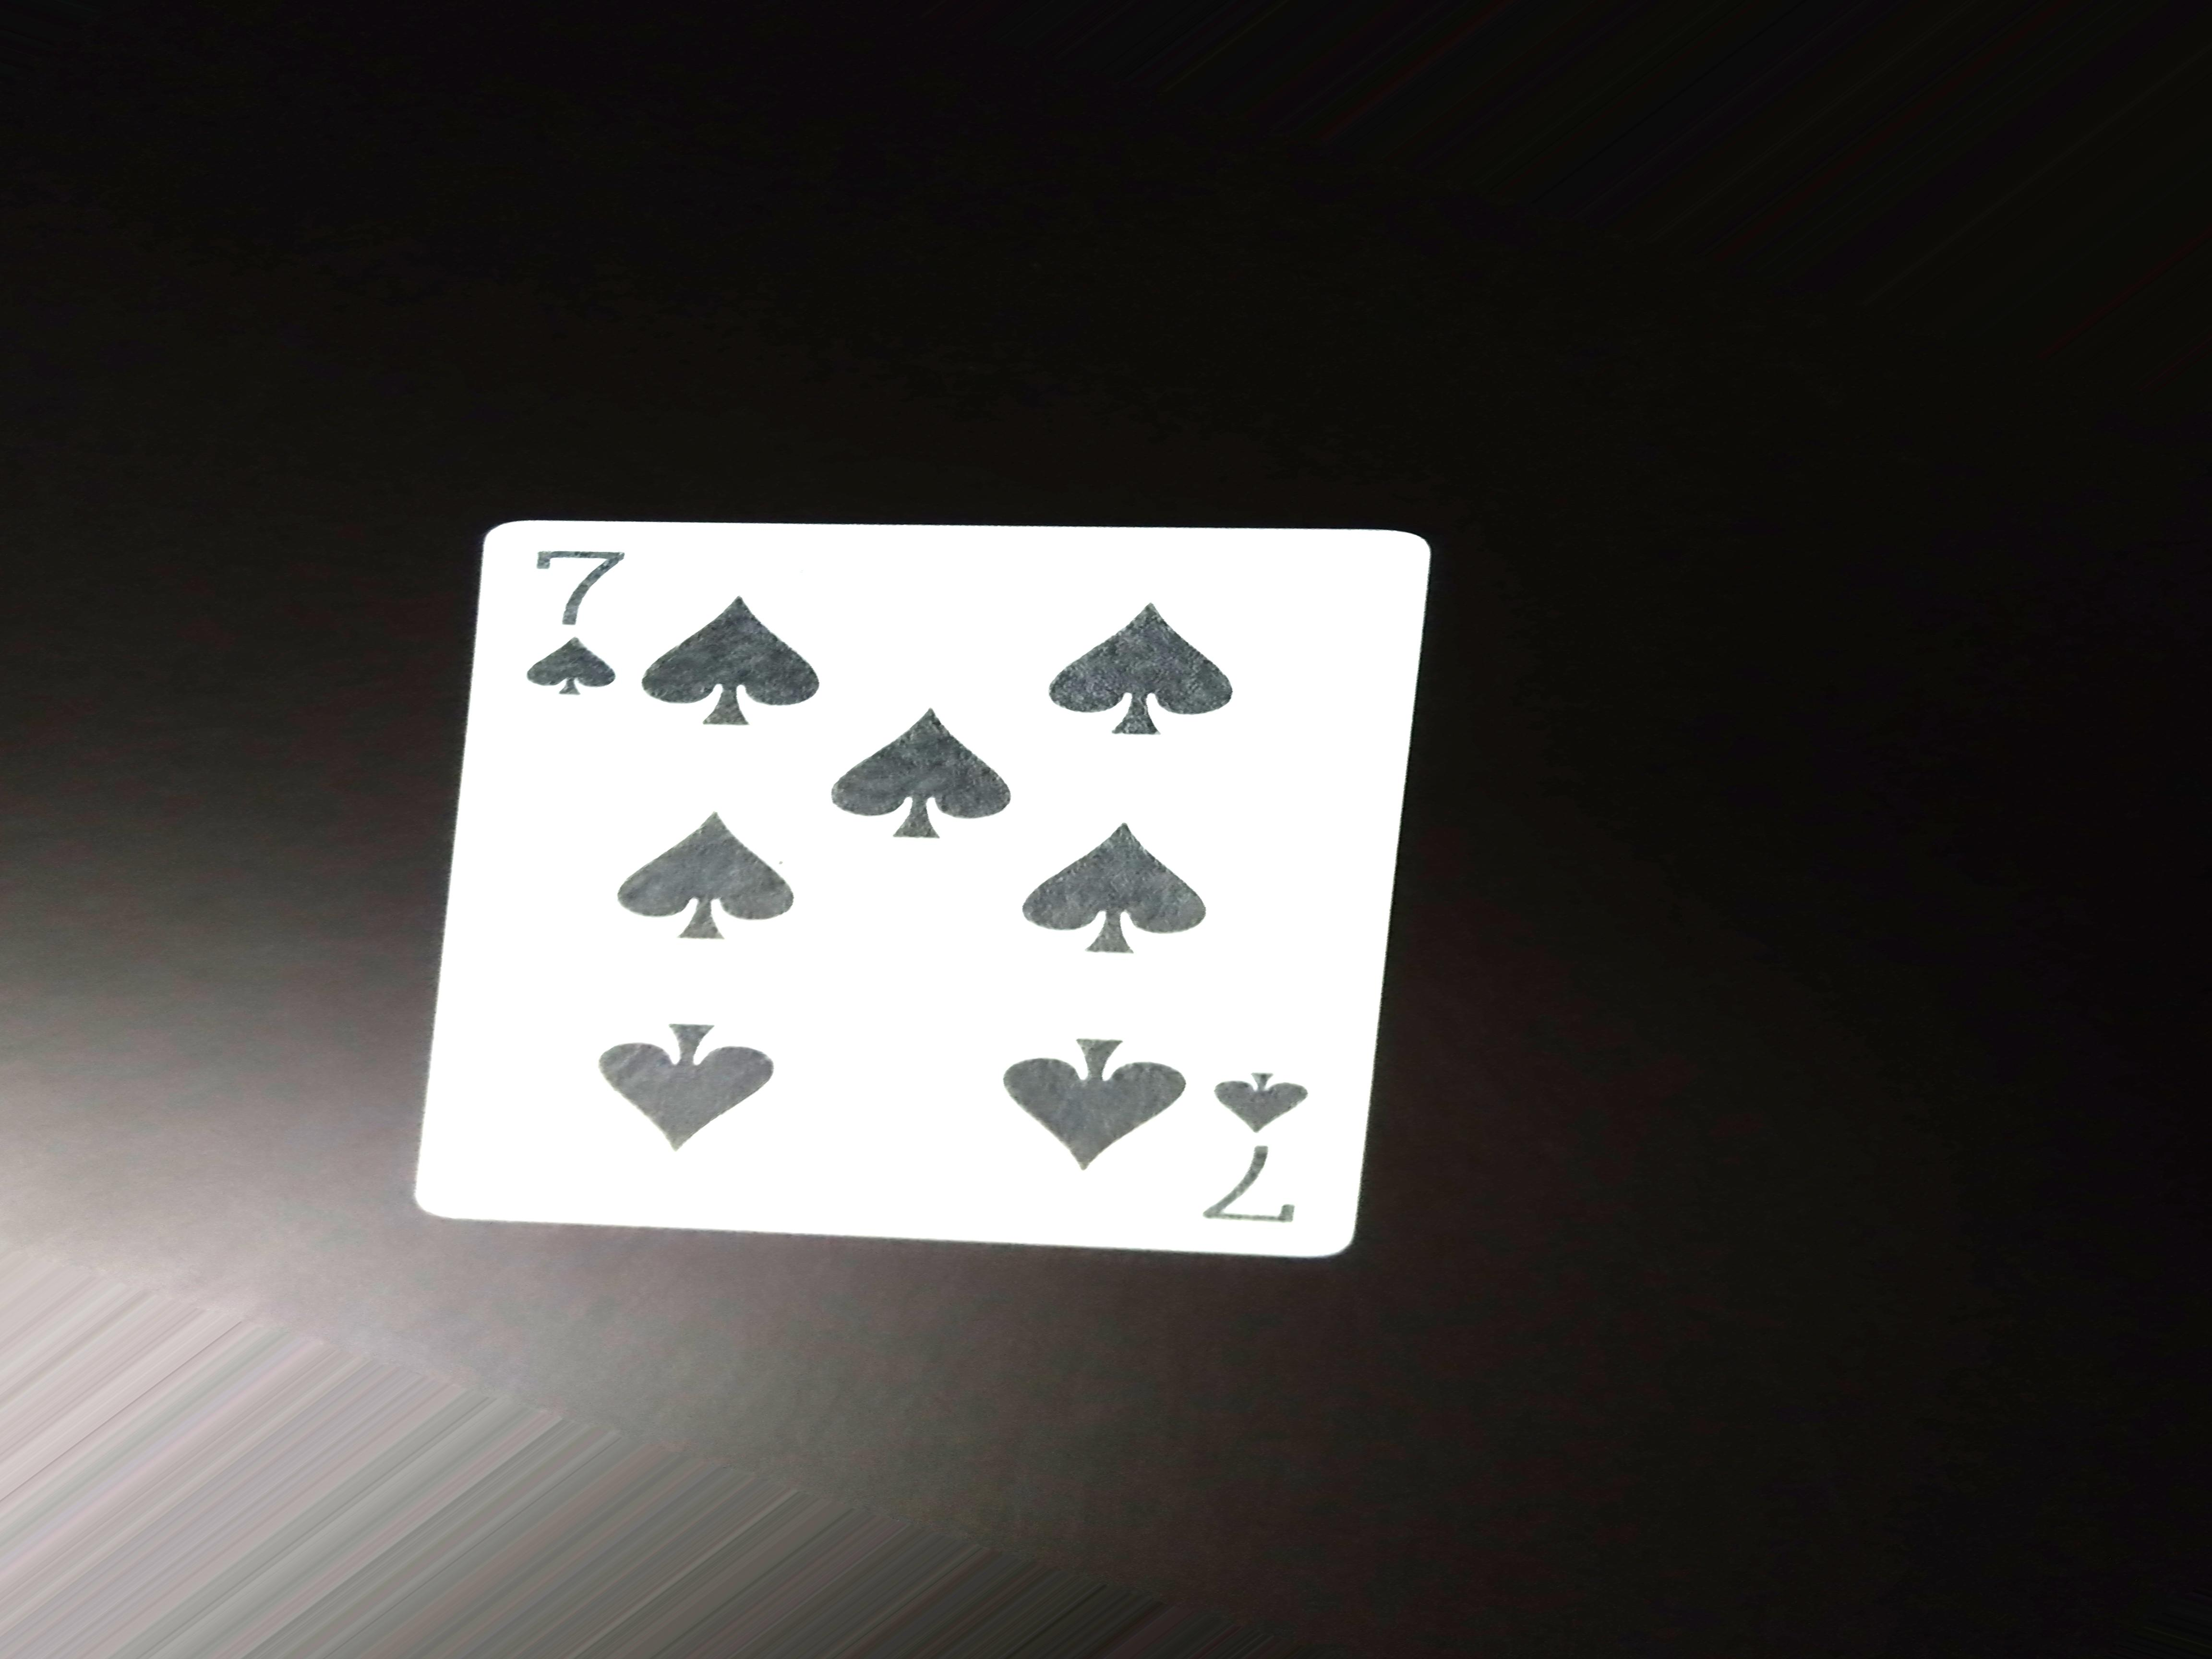7S: (528, 518, 631, 718)
